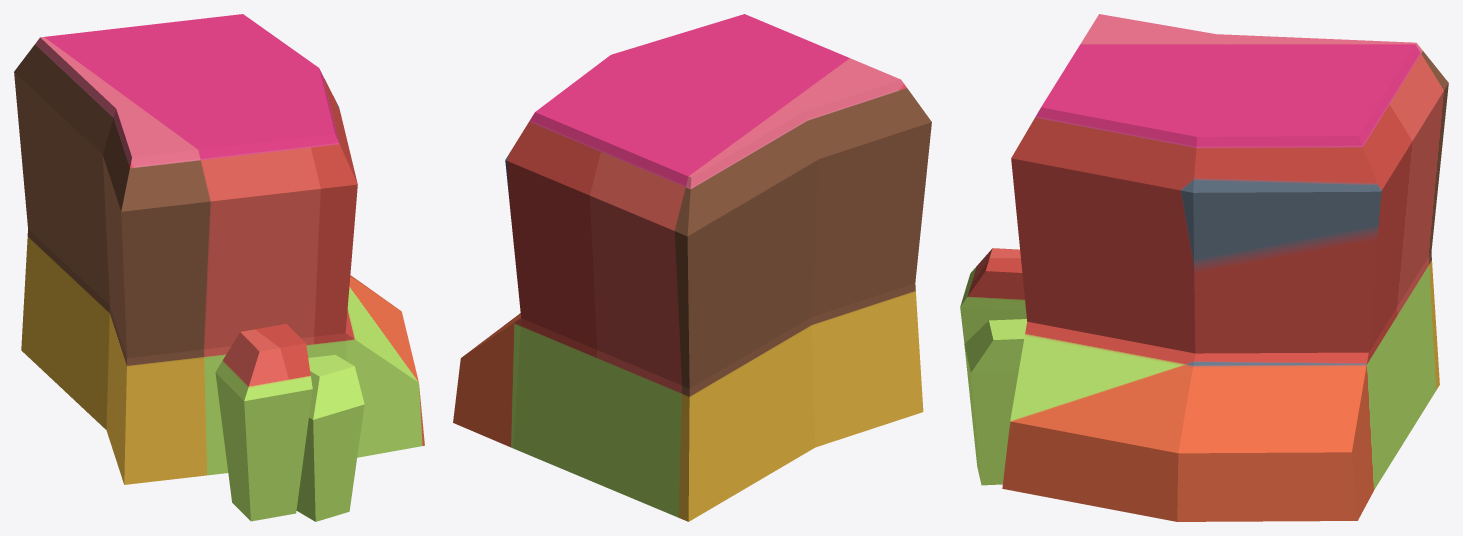
The model's file is rock_11.fbx.
3 renders of one model, left to right at view 1: azimuth 30°, elevation 25°; view 2: azimuth 150°, elevation 25°; view 3: azimuth 270°, elevation 25°, orthographic. The views are drawn at different scales.
Visible parts, largest first — view 1: rock_11; view 2: rock_11; view 3: rock_11.
Boxes of the visible parts, x1,y1,x2,y2 form: rock_11: [14, 14, 424, 521]; rock_11: [453, 14, 931, 521]; rock_11: [960, 14, 1448, 521].
Bounding box in the file's own units: 111 × 114 × 131.
